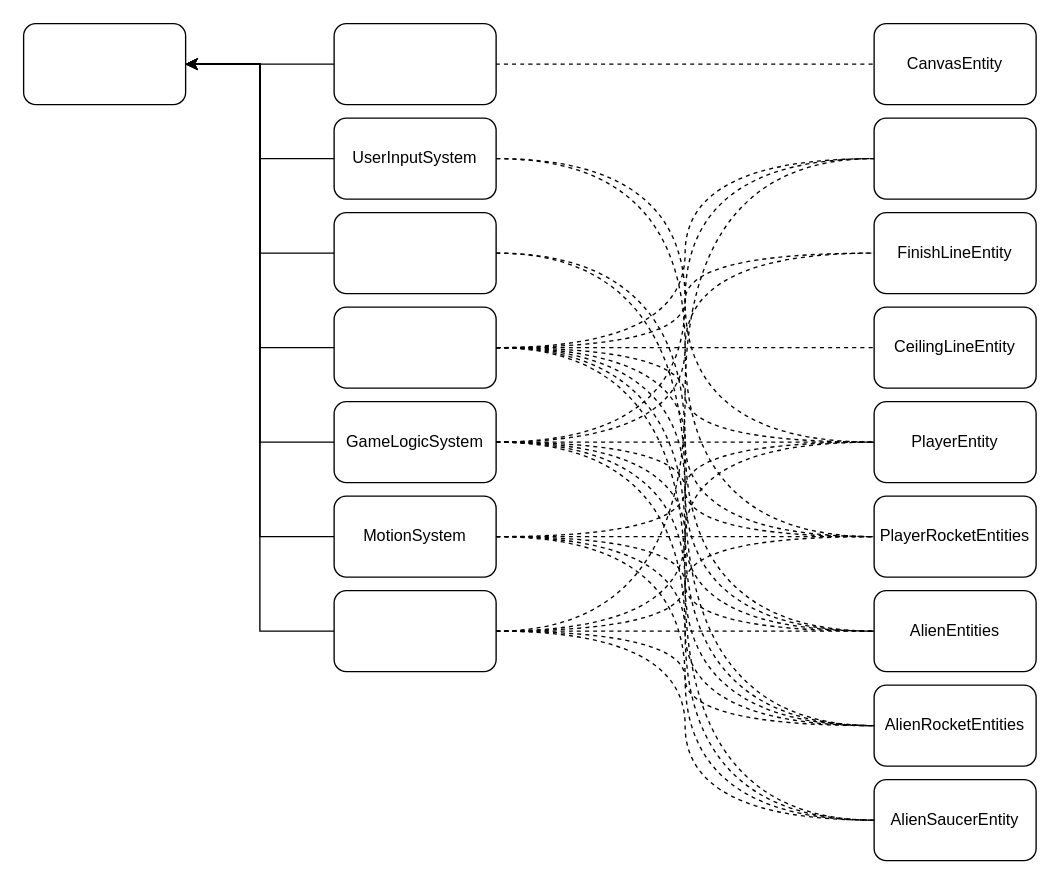
This 1060x884 diagram has some shape labels left out. The shapes that lost their labels are listed below. From the top down, each one's centre as x and y in pixels, then its label:
At (104,63): "System".
At (414,63): "CanvasSystem".
At (954,158): "ShieldEntity".
At (414,252): "AlienRocketSystem".
At (414,347): "CollisionSystem".
At (414,630): "RenderSystem".
